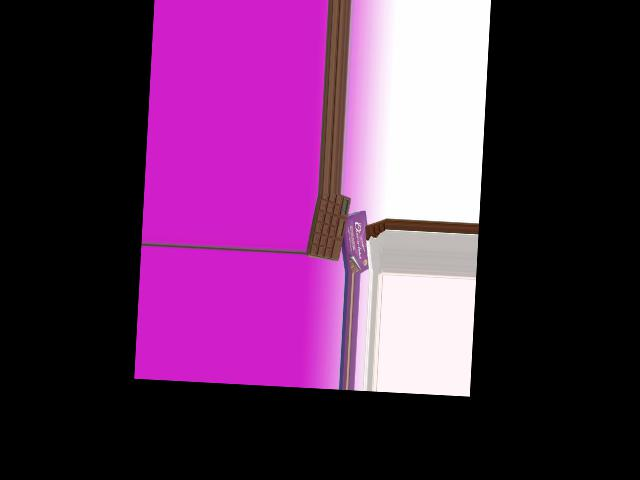chocolate: (305, 195, 352, 260)
